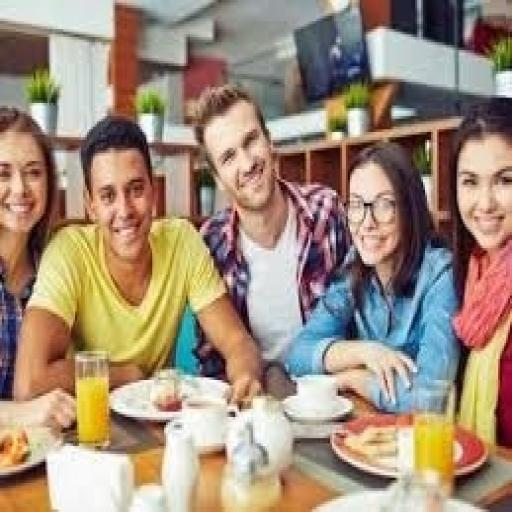eating: (2, 79, 510, 441), (12, 111, 265, 412)
